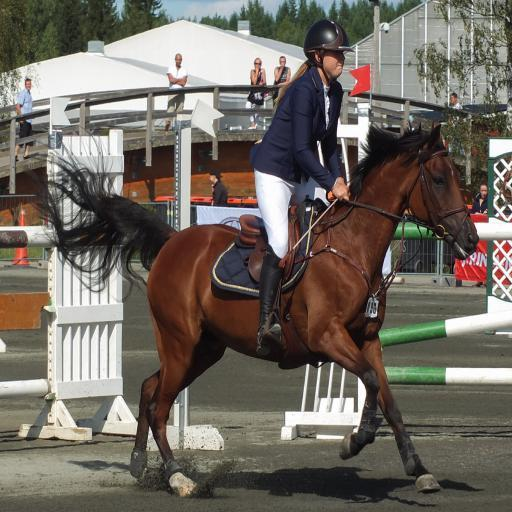horse: (24, 114, 479, 498)
